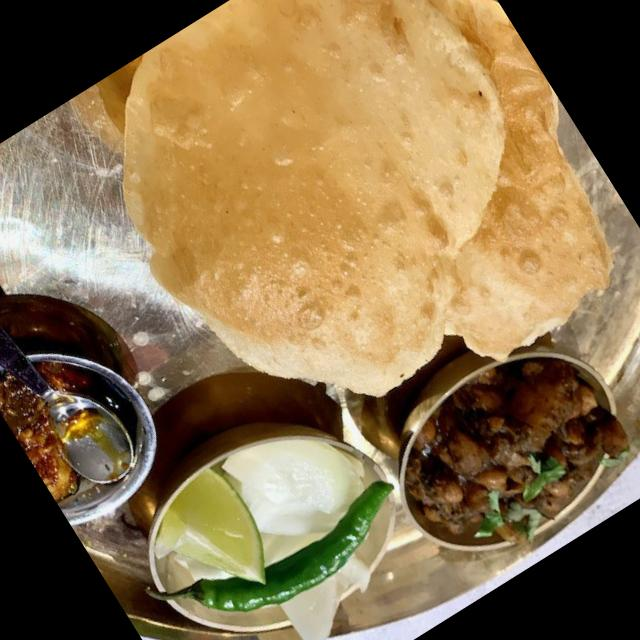Bhatura: (53, 0, 640, 495)
Chole: (382, 327, 640, 584)
